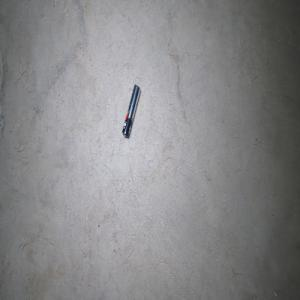Battery: (121, 83, 140, 138)
